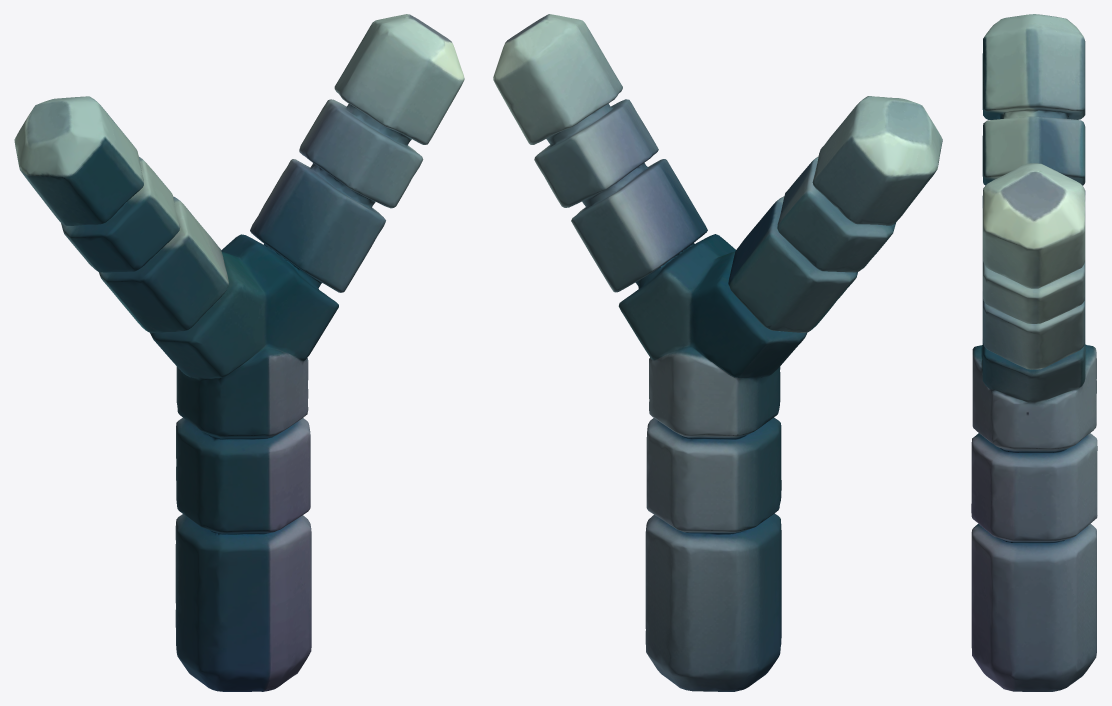
Rendered from antibody-ig-nexus.glb.
3 renders of one model, left to right at view 1: azimuth 30°, elevation 25°; view 2: azimuth 150°, elevation 25°; view 3: azimuth 270°, elevation 25°, orthographic. The views are drawn at different scales.
Visible parts, largest first — view 1: world; view 2: world; view 3: world.
Part boxes in pixels (box(x1,y1,x2,y2)): world: box(14, 14, 464, 691); world: box(493, 14, 942, 691); world: box(971, 14, 1097, 691).
Bounding box in the file's own units: 0.7366 × 1 × 0.197.
Materials: 1 (1 with a texture image).
